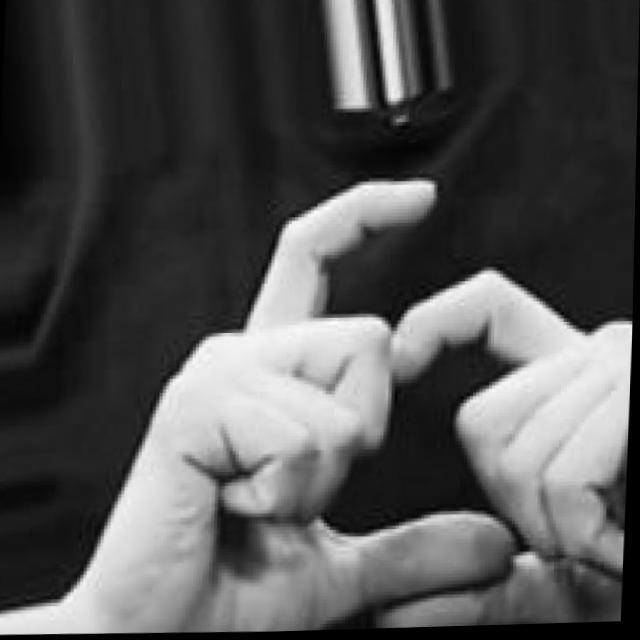G: (58, 150, 636, 638)
